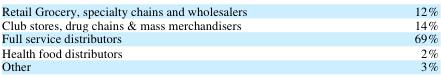table: (1, 1, 437, 74)
table column: (1, 1, 330, 74), (330, 1, 437, 74)
table row: (1, 58, 437, 74), (1, 1, 437, 16), (1, 16, 437, 30), (1, 30, 437, 44), (1, 44, 437, 58)
